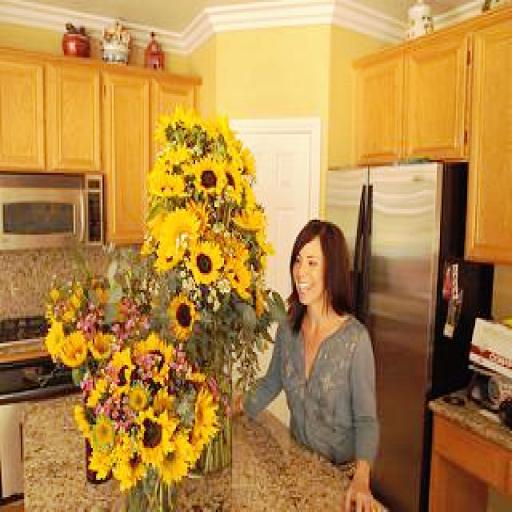sunflower: (157, 207, 200, 256), (136, 412, 174, 463), (186, 232, 219, 282), (192, 388, 222, 442), (190, 158, 228, 200), (138, 335, 171, 378), (168, 288, 194, 337), (118, 444, 144, 484), (56, 333, 86, 367)
